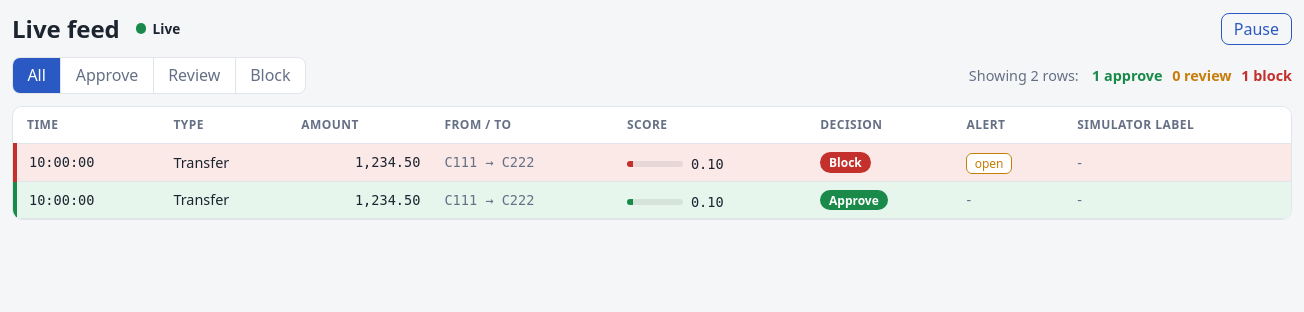
live feed › freezes the table while the pointer is on it, then catches up
Hover over the element with test id "feed-area" at coordinates (652, 163), box top-left (12, 106), bottom-right (1292, 220)
Wait 5000 ms
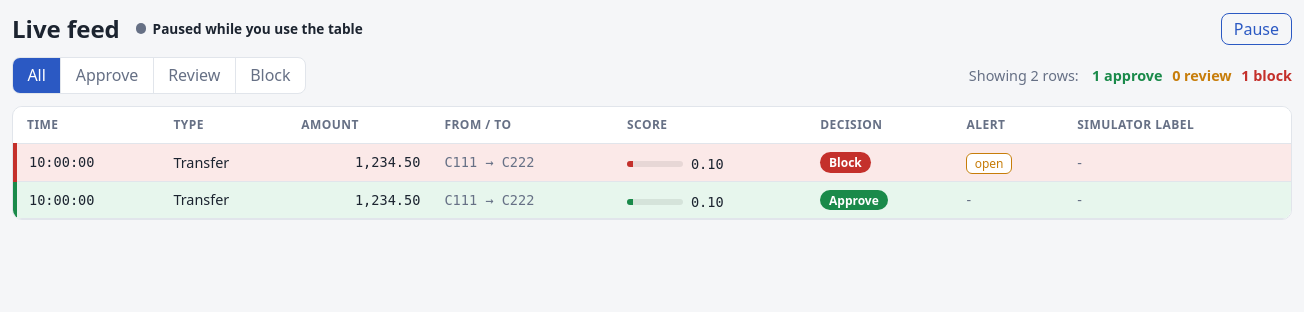
Expected: the message reads "Paused while you use the table", top-left (153, 19), bottom-right (363, 38)
Move the pointer off the element with test id "feed-area", box top-left (12, 106), bottom-right (1292, 220)
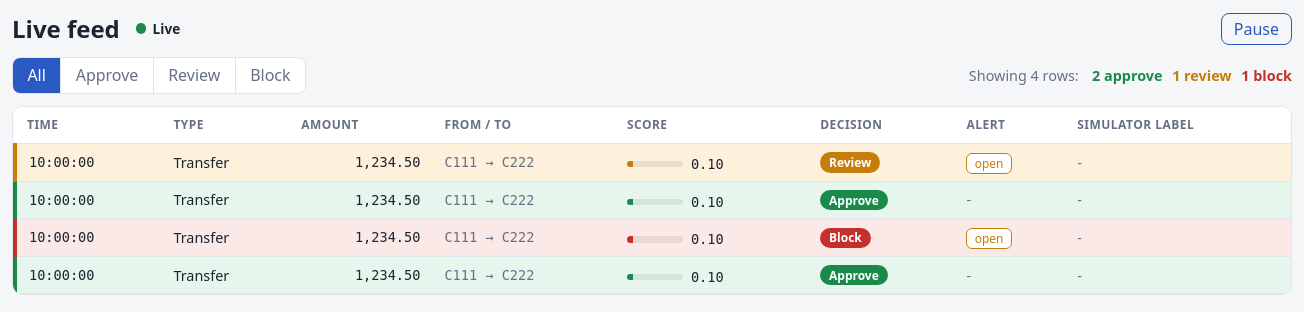
Expected: the message reads "Live", top-left (153, 19), bottom-right (180, 38)
